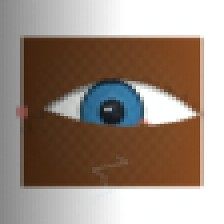foreign_body_visible: (153, 120, 181, 142)
